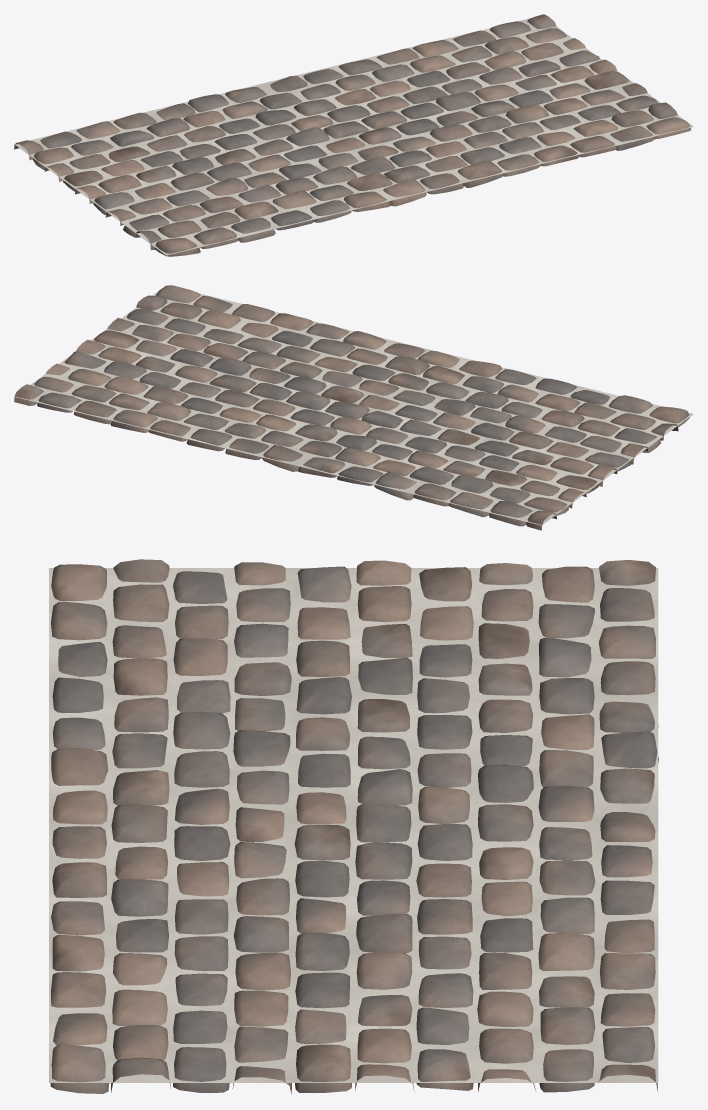
The model's file is cobble_plaza_1.glb.
3 renders of one model, top to bottom at view 1: azimuth 30°, elevation 25°; view 2: azimuth 150°, elevation 25°; view 3: azimuth 270°, elevation 25°, orthographic. The views are drawn at different scales.
Parts seen in each view (by area): view 1: model; view 2: model; view 3: model.
Part boxes in pixels (box(x1,y1,x2,y2)): model: box(14, 14, 693, 256); model: box(14, 285, 693, 530); model: box(49, 559, 658, 1094).
Bounding box in the file's own units: 4.01 × 0.1049 × 2.
2 materials, 2 textured.
